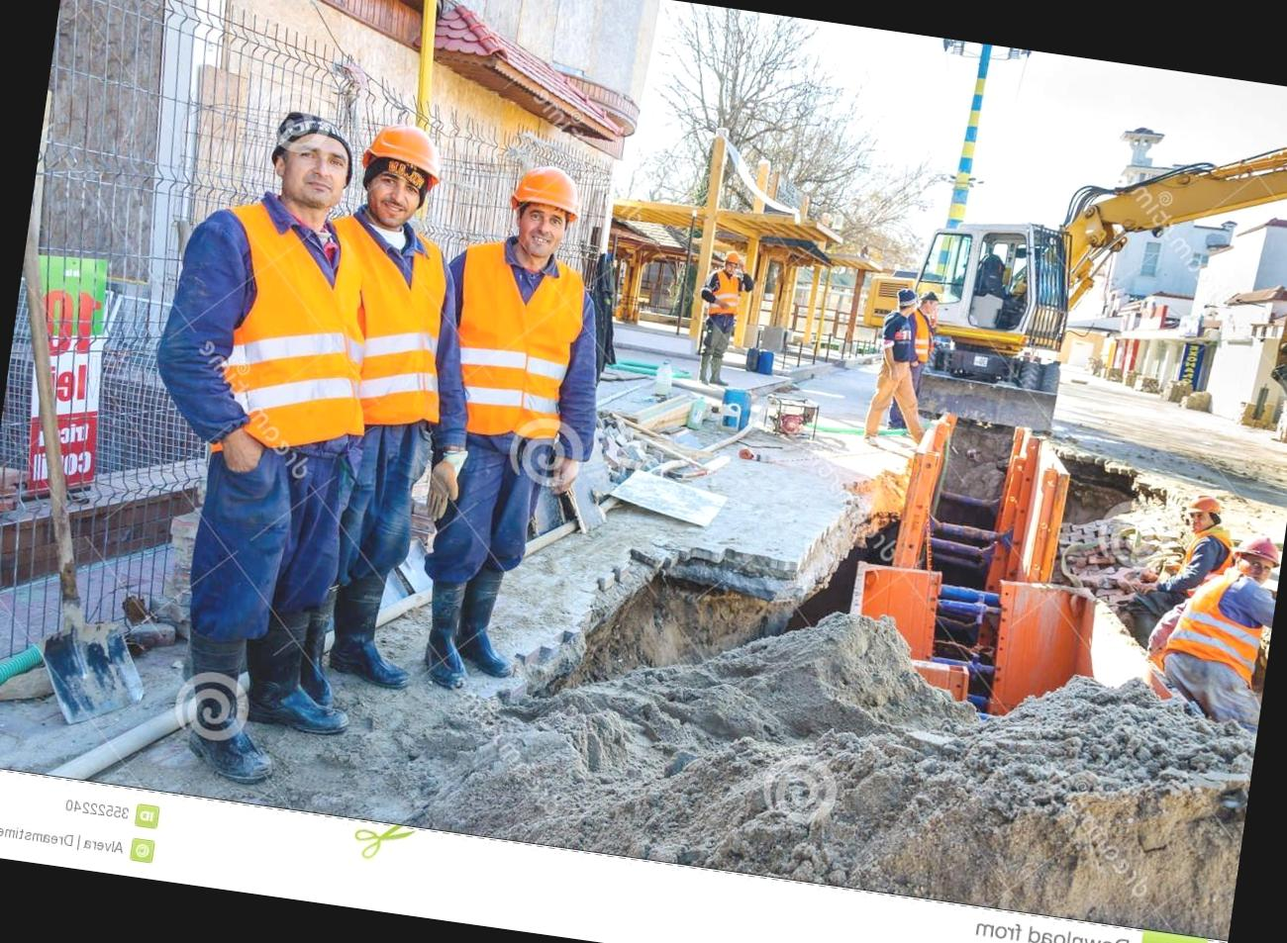helmet: (351, 117, 455, 198), (504, 158, 581, 219)
person: (94, 87, 376, 784), (386, 151, 640, 709), (281, 105, 488, 736)
